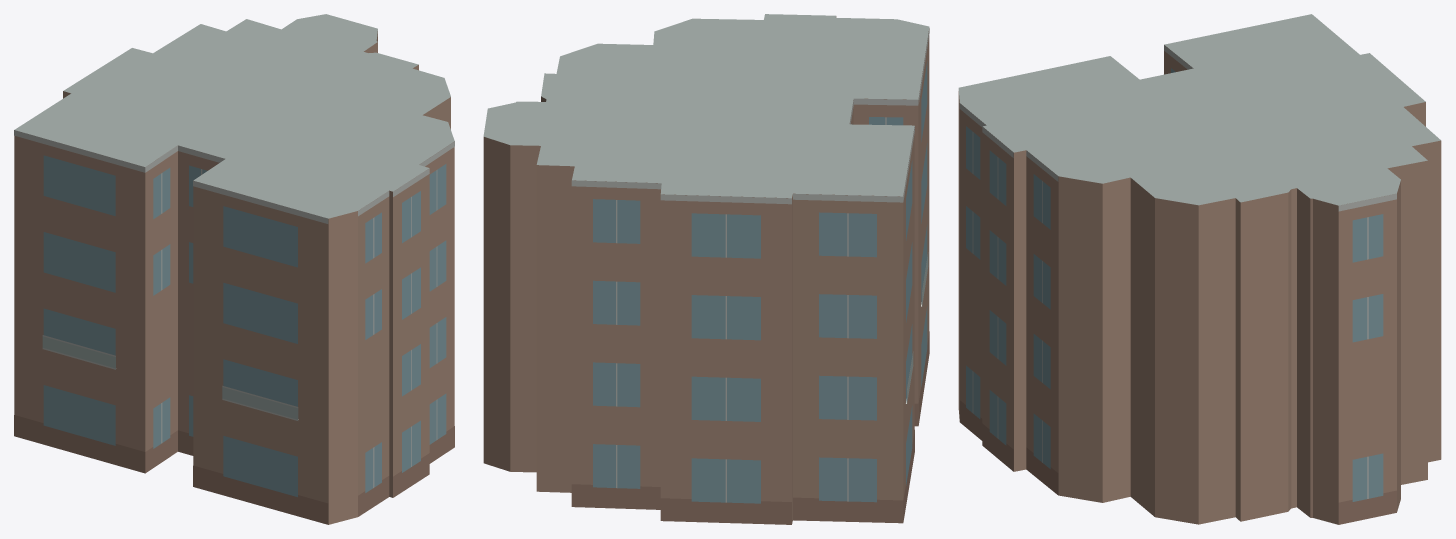
Rendered from survey-upis-32656037.glb.
The picture shows the model from 3 angles, left to right: view 1: azimuth 30°, elevation 25°; view 2: azimuth 150°, elevation 25°; view 3: azimuth 270°, elevation 25°; orthographic projection. The views are drawn at different scales.
Parts seen in each view (by area): view 1: survey-upis-32656037.tmp; view 2: survey-upis-32656037.tmp; view 3: survey-upis-32656037.tmp.
Part boxes in pixels (x1,y1,x2,y2): survey-upis-32656037.tmp: (14,14,454,524); survey-upis-32656037.tmp: (483,14,929,524); survey-upis-32656037.tmp: (958,14,1441,524).
Bounding box in the file's own units: 17 × 13.2 × 18.1.
